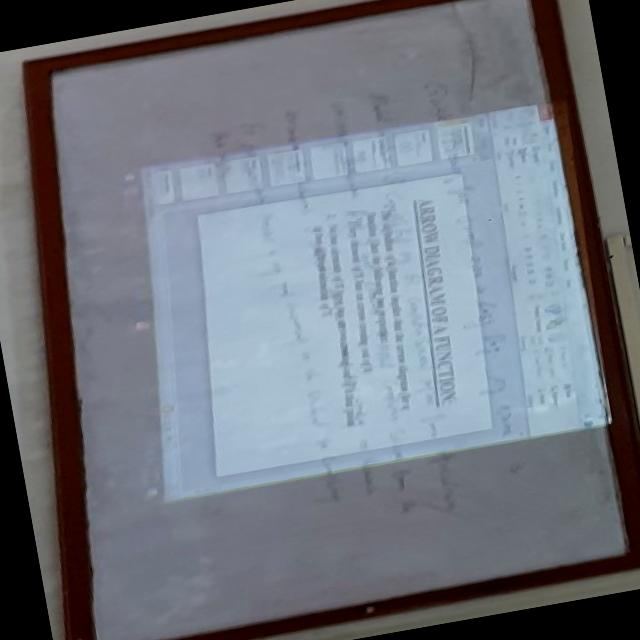Slide: (106, 100, 614, 506)
White-board: (30, 0, 640, 640)
